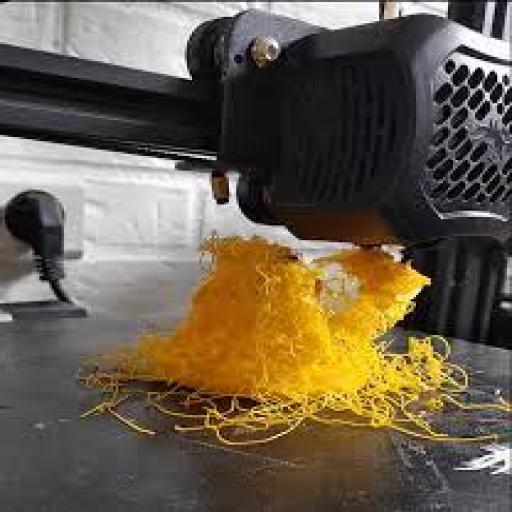spaghetti: (123, 223, 453, 462)
